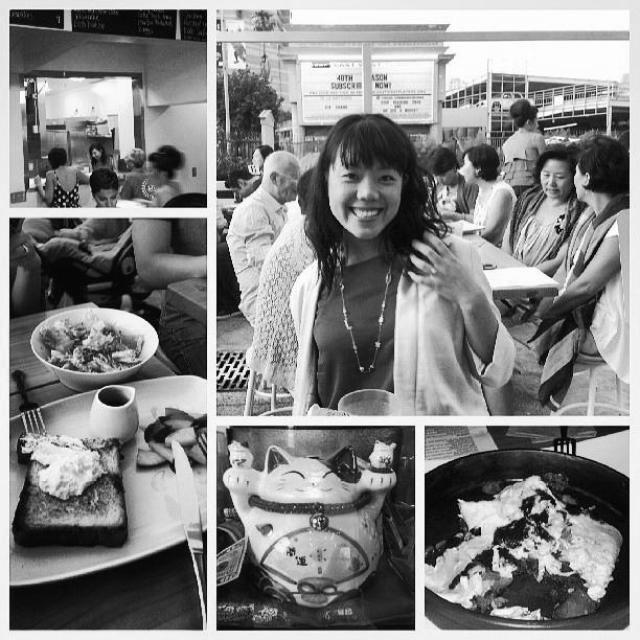vehicle: (492, 91, 536, 113)
